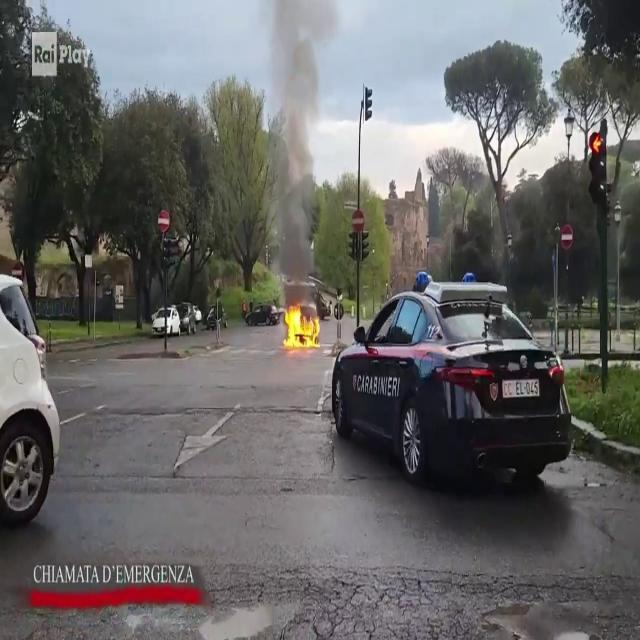Fire: (281, 294, 322, 352)
Smoke: (265, 0, 324, 284)
